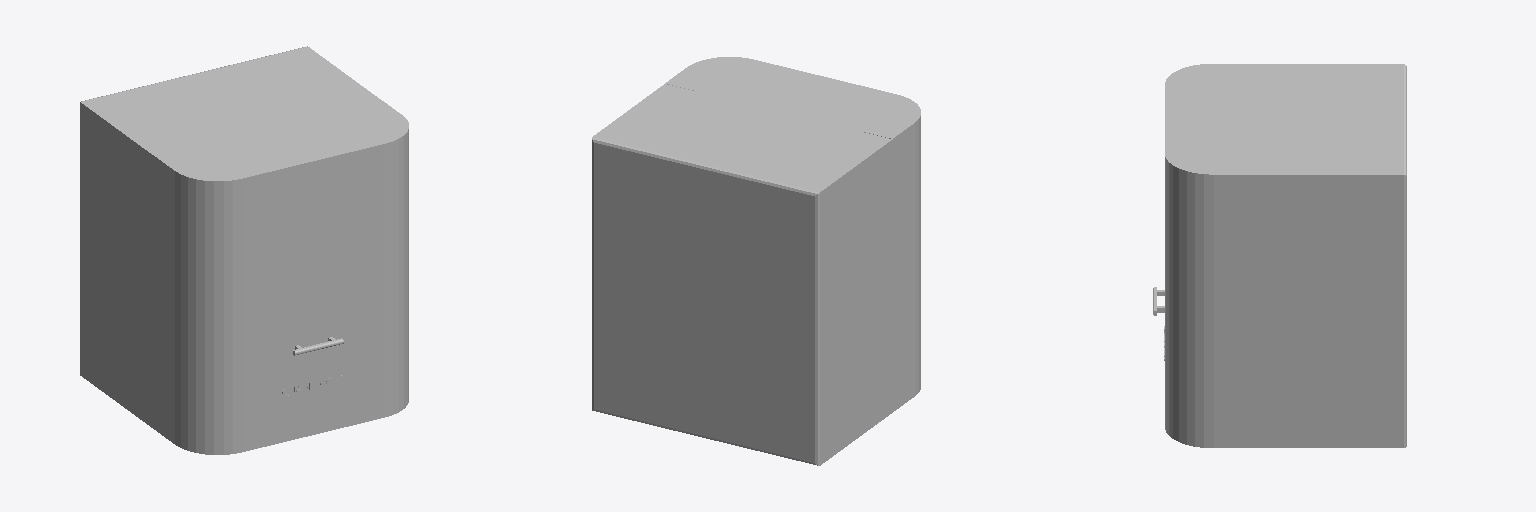
File: quadrosorb.obj
3 views of the same model, side by side, from view 1: azimuth 30°, elevation 25°; view 2: azimuth 150°, elevation 25°; view 3: azimuth 270°, elevation 25° (orthographic).
Parts seen in each view (by area): view 1: Cube.044_Cube.011, Cube.028_Cube.043; view 2: Cube.028_Cube.043, Cube.044_Cube.011; view 3: Cube.028_Cube.043, Cube.044_Cube.011.
Part boxes in pixels (left/top/right/bottom): Cube.044_Cube.011: left=153, top=99, right=408, bottom=385; Cube.028_Cube.043: left=80, top=46, right=408, bottom=454; Cube.028_Cube.043: left=592, top=84, right=920, bottom=465; Cube.044_Cube.011: left=665, top=57, right=920, bottom=326; Cube.028_Cube.043: left=1153, top=64, right=1406, bottom=447; Cube.044_Cube.011: left=1165, top=64, right=1258, bottom=378.
Bounding box in the file's own units: 6.37 × 7.31 × 6.17.